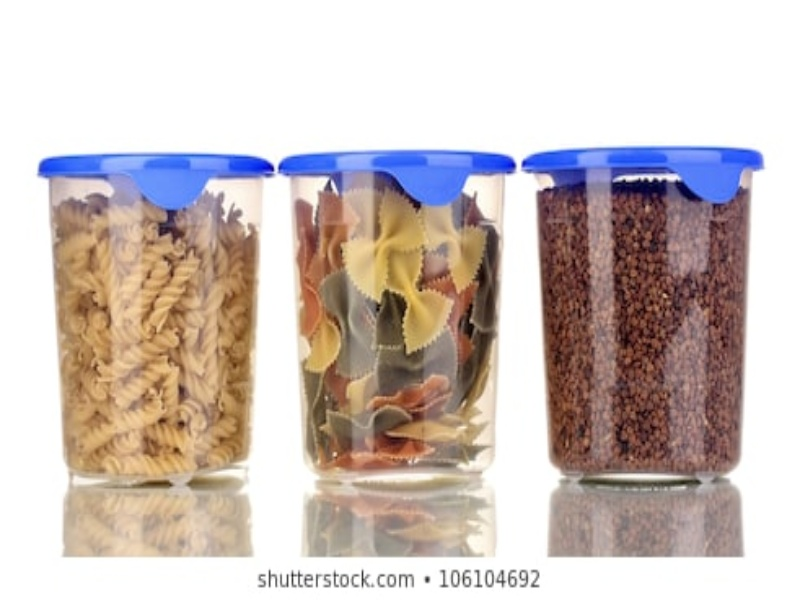plastic-container: (518, 146, 761, 483), (32, 148, 266, 480), (281, 150, 510, 482)
